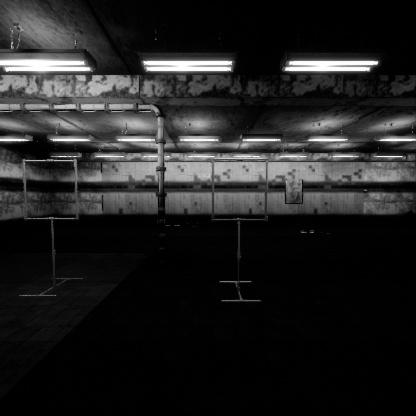gate: (211, 194, 273, 257), (23, 195, 83, 256)
